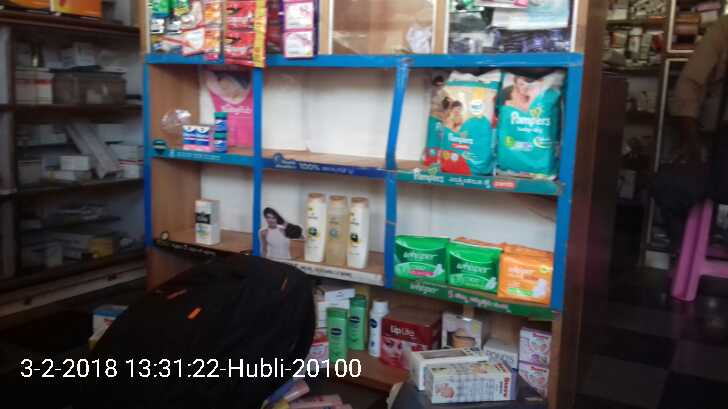beauty: (303, 191, 328, 266), (325, 194, 347, 270), (348, 196, 369, 269), (193, 196, 221, 246)
pharmacy: (427, 70, 497, 177), (499, 66, 559, 182), (394, 235, 449, 289), (503, 245, 551, 306), (449, 243, 497, 292), (182, 125, 196, 154), (197, 123, 210, 154), (211, 131, 228, 154), (213, 111, 227, 132)
